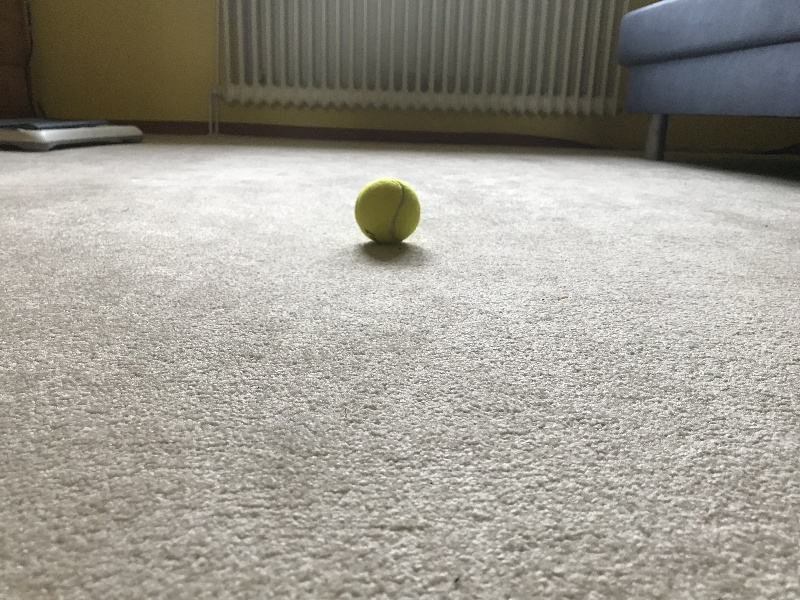Tennisball: (345, 173, 433, 255)
